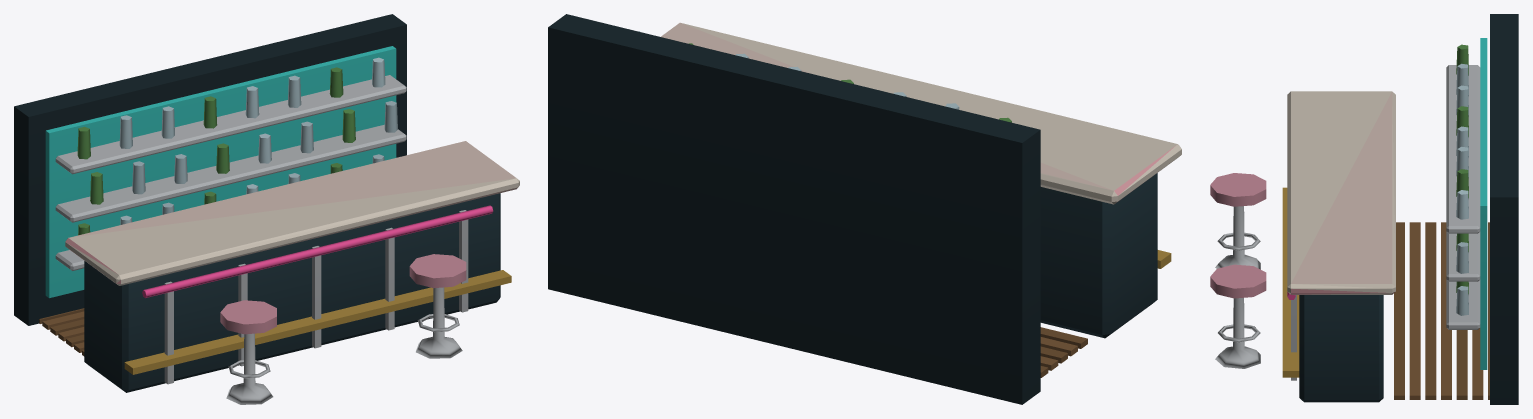
The model's file is club_bar_counter.glb.
The picture shows the model from 3 angles, left to right: view 1: azimuth 30°, elevation 25°; view 2: azimuth 150°, elevation 25°; view 3: azimuth 270°, elevation 25°; orthographic projection. The views are drawn at different scales.
Parts seen in each view (by area): view 1: club_bar_counter; view 2: club_bar_counter; view 3: club_bar_counter.
Part boxes in pixels (box(x1,y1,x2,y2)): club_bar_counter: box(14, 14, 519, 404); club_bar_counter: box(548, 14, 1181, 404); club_bar_counter: box(1210, 14, 1518, 404).
Bounding box in the file's own units: 3.84 × 1.9 × 2.56.
